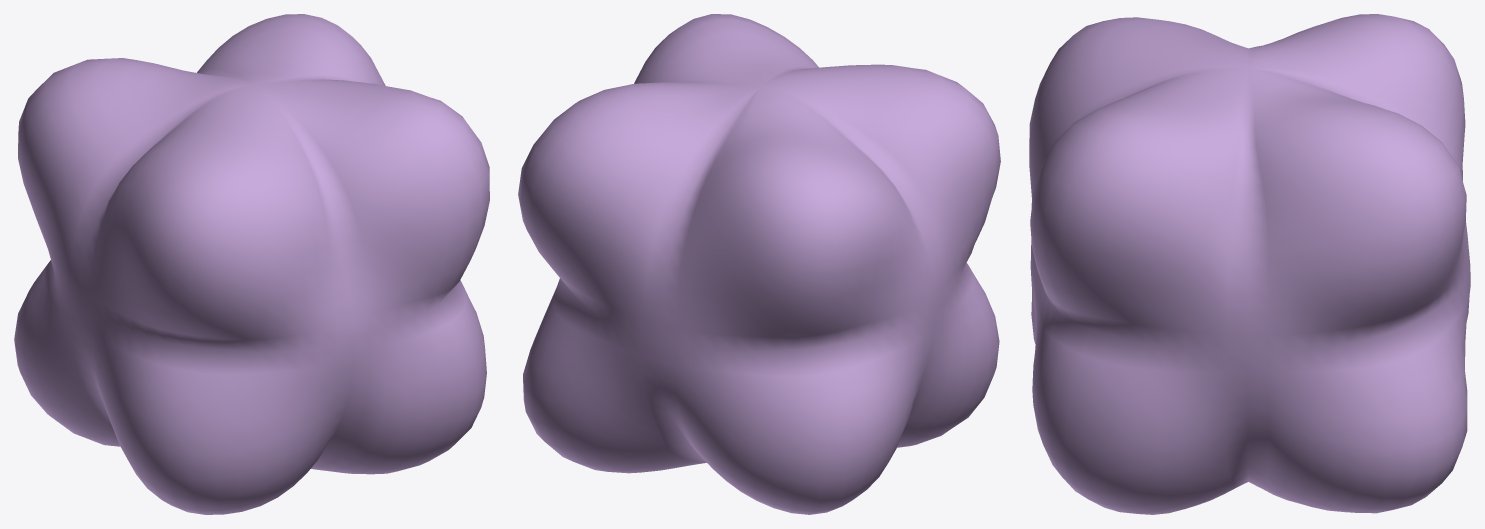
Rendered from star_burst.glb.
The picture shows the model from 3 angles, left to right: view 1: azimuth 30°, elevation 25°; view 2: azimuth 150°, elevation 25°; view 3: azimuth 270°, elevation 25°; orthographic projection. The views are drawn at different scales.
Parts seen in each view (by area): view 1: star_burst; view 2: star_burst; view 3: star_burst.
Part boxes in pixels (<box>): star_burst: <box>14,14,489,514</box>; star_burst: <box>518,14,1000,514</box>; star_burst: <box>1029,14,1470,514</box>.
Size of the model in its own units: 2.03 by 2.03 by 2.04.
